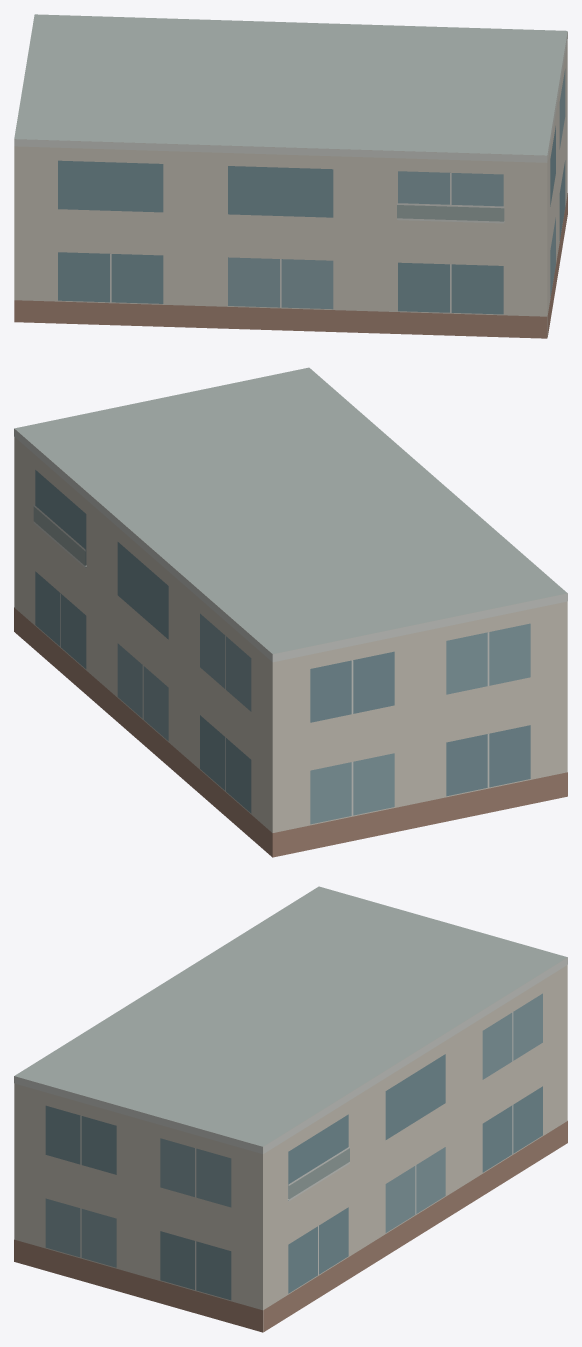
Rendered from survey-upis-32707459.glb.
3 renders of one model, top to bottom at view 1: azimuth 30°, elevation 25°; view 2: azimuth 150°, elevation 25°; view 3: azimuth 270°, elevation 25°, orthographic. The views are drawn at different scales.
Parts seen in each view (by area): view 1: survey-upis-32707459.tmp; view 2: survey-upis-32707459.tmp; view 3: survey-upis-32707459.tmp.
Part boxes in pixels (left/top/right/bottom): survey-upis-32707459.tmp: left=14, top=14, right=567, bottom=338; survey-upis-32707459.tmp: left=14, top=367, right=567, bottom=857; survey-upis-32707459.tmp: left=14, top=886, right=567, bottom=1332.
Bounding box in the file's own units: 18.36 × 6.1 × 16.49.
